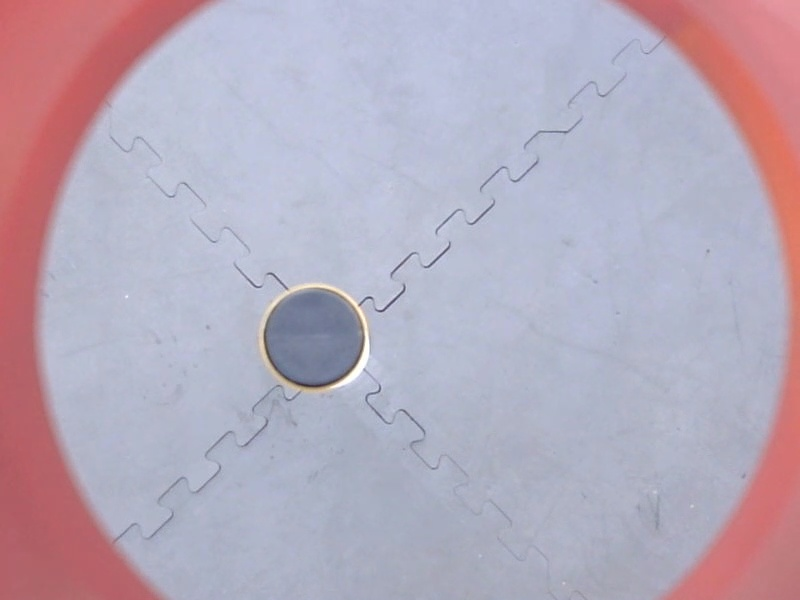tip: (253, 277, 376, 401)
